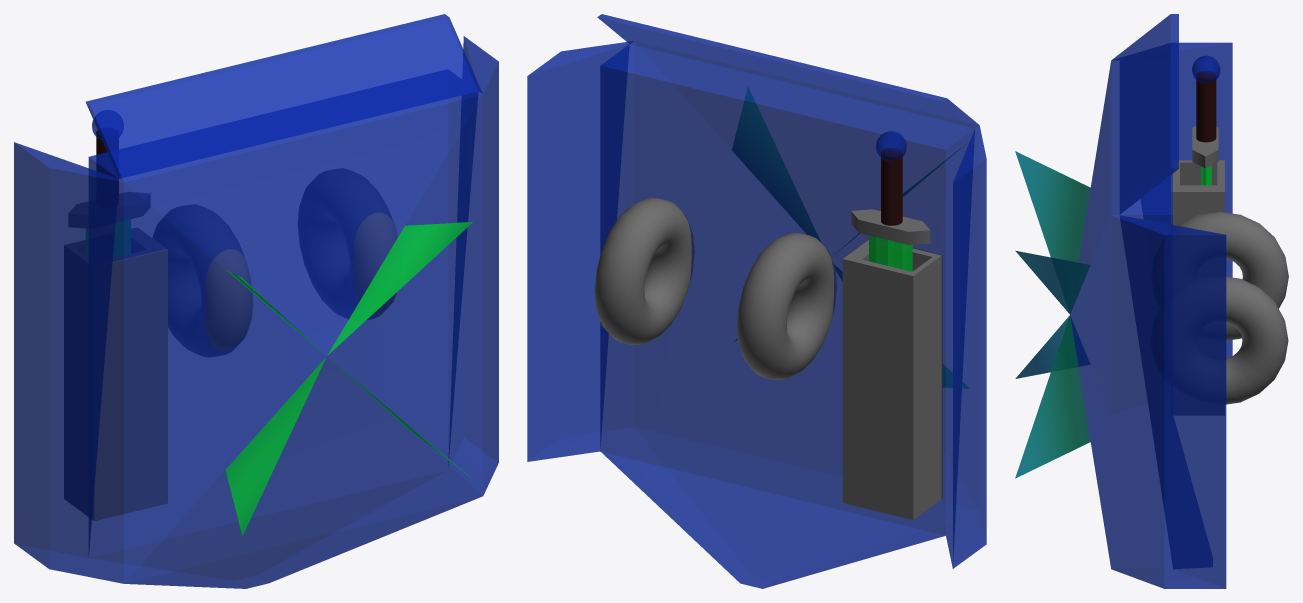
The model's file is necroshield.fbx.
The picture shows the model from 3 angles, left to right: view 1: azimuth 30°, elevation 25°; view 2: azimuth 150°, elevation 25°; view 3: azimuth 270°, elevation 25°; orthographic projection. The views are drawn at different scales.
Parts seen in each view (by area): view 1: pCube1, pCube5, pasted__pTorus1, pTorus1, polySurface1, polySurface4; view 2: pCube1, pCube5, pTorus1, pasted__pTorus1, polySurface1, polySurface4, polySurface3, polySurface2; view 3: pCube1, pTorus1, pasted__pTorus1, pCube5, polySurface4, polySurface1, polySurface2.
Part boxes in pixels (x1,y1,x2,y2): pCube1: [14, 14, 498, 588]; pCube5: [64, 228, 167, 520]; pasted__pTorus1: [153, 205, 252, 356]; pTorus1: [298, 169, 397, 319]; polySurface1: [69, 192, 149, 227]; polySurface4: [96, 130, 118, 205]; pCube1: [527, 14, 986, 588]; pCube5: [842, 240, 942, 519]; pTorus1: [594, 198, 694, 345]; pasted__pTorus1: [737, 233, 836, 380]; polySurface1: [851, 209, 930, 244]; polySurface4: [881, 148, 902, 225]; polySurface3: [869, 235, 912, 271]; polySurface2: [876, 131, 906, 161]; pCube1: [1015, 14, 1232, 588]; pTorus1: [1173, 276, 1288, 404]; pasted__pTorus1: [1173, 211, 1288, 340]; pCube5: [1171, 160, 1224, 414]; polySurface4: [1196, 71, 1216, 142]; polySurface1: [1192, 126, 1218, 168]; polySurface2: [1192, 55, 1220, 83].
Size of the model in its own units: 3.26 by 3.73 by 1.96.
